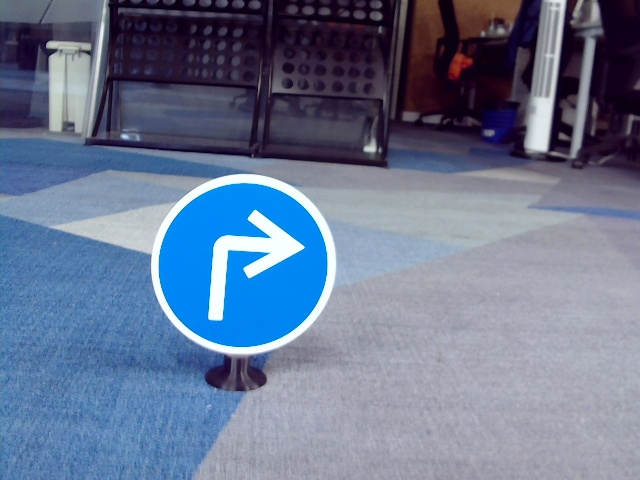turn_right: (200, 214, 301, 323)
